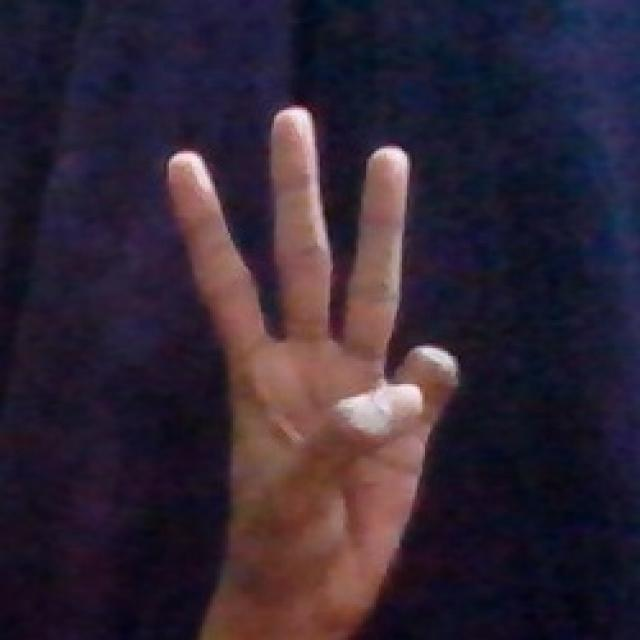Numeric-6: (164, 95, 460, 579)
